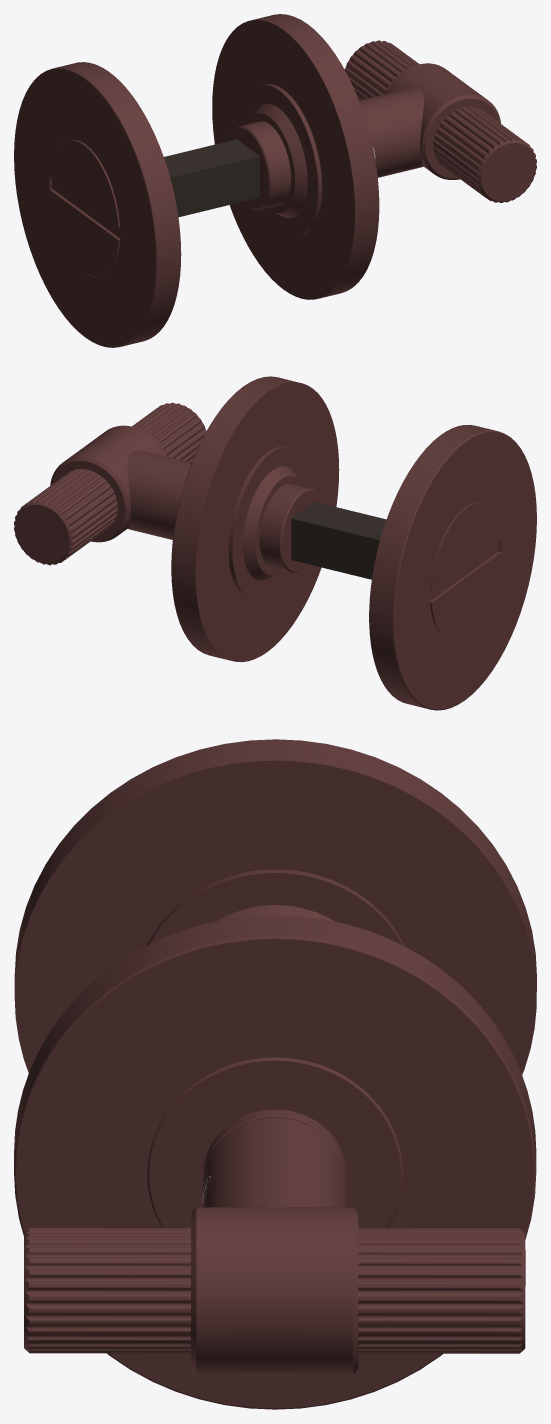
The model's file is Muletillared.glb.
3 renders of one model, top to bottom at view 1: azimuth 30°, elevation 25°; view 2: azimuth 150°, elevation 25°; view 3: azimuth 270°, elevation 25°, orthographic. The views are drawn at different scales.
Visible parts, largest first — view 1: Mesh_6, Mesh_9, Mesh_7, Mesh_8; view 2: Mesh_6, Mesh_9, Mesh_7, Mesh_8; view 3: Mesh_6, Mesh_9, Mesh_7.
Part boxes in pixels (box(x1,y1,x2,y2)): Mesh_6: box(212, 14, 500, 299); Mesh_9: box(14, 62, 181, 347); Mesh_7: box(344, 40, 536, 202); Mesh_8: box(164, 139, 259, 217); Mesh_6: box(50, 376, 339, 662); Mesh_9: box(369, 425, 536, 710); Mesh_7: box(14, 402, 206, 565); Mesh_8: box(291, 502, 386, 579); Mesh_6: box(14, 915, 536, 1409); Mesh_9: box(14, 739, 536, 1074); Mesh_7: box(24, 1228, 525, 1353).
Bounding box in the file's own units: 0.0797 × 0.05 × 0.0501.
